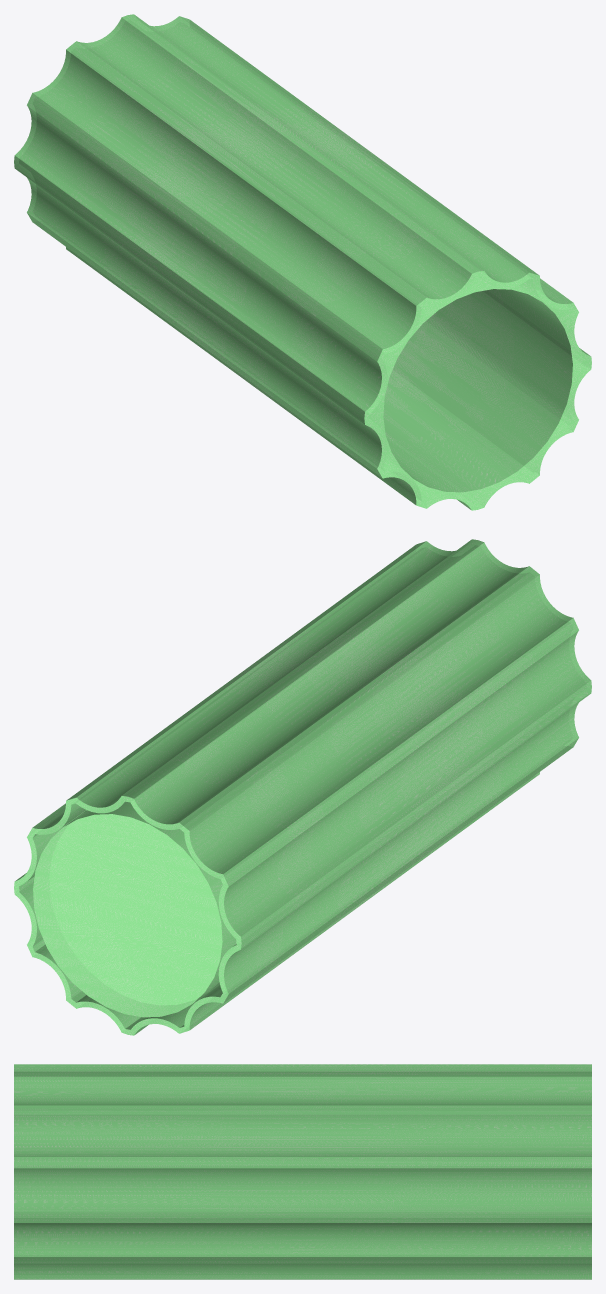
Rendered from model_scale.obj.
3 views of the same model, one above another, from view 1: azimuth 30°, elevation 25°; view 2: azimuth 150°, elevation 25°; view 3: azimuth 270°, elevation 25° (orthographic). The views are drawn at different scales.
Parts seen in each view (by area): view 1: mesh1_mesh1-geometry; view 2: mesh1_mesh1-geometry; view 3: mesh1_mesh1-geometry.
Boxes of the visible parts, bbox=[...] form: mesh1_mesh1-geometry: bbox=[14, 14, 591, 510]; mesh1_mesh1-geometry: bbox=[14, 539, 591, 1035]; mesh1_mesh1-geometry: bbox=[14, 1064, 591, 1279].
Bounding box in the file's own units: 0.0679 × 0.0679 × 0.181.
